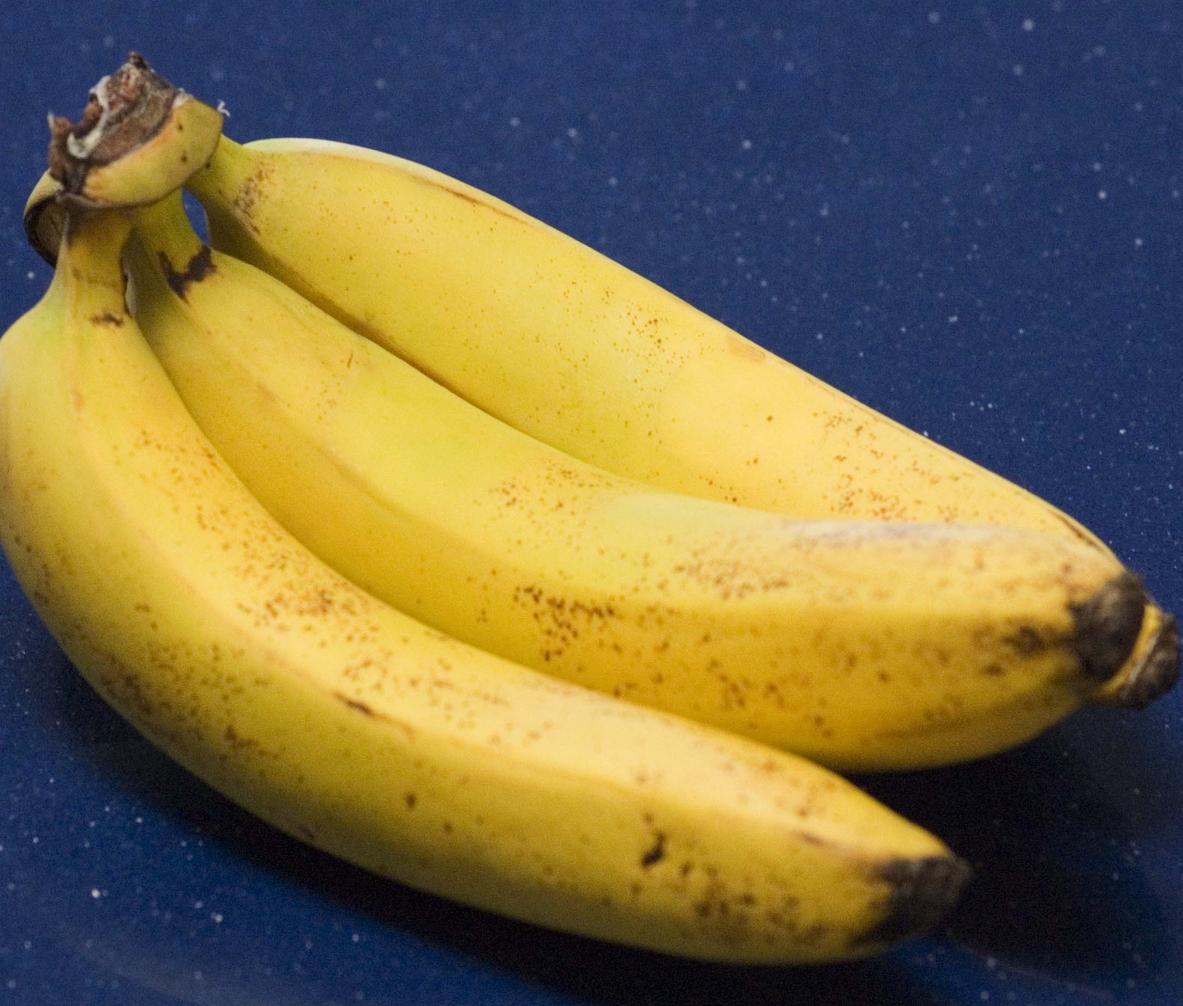banana: (7, 37, 1173, 962)
